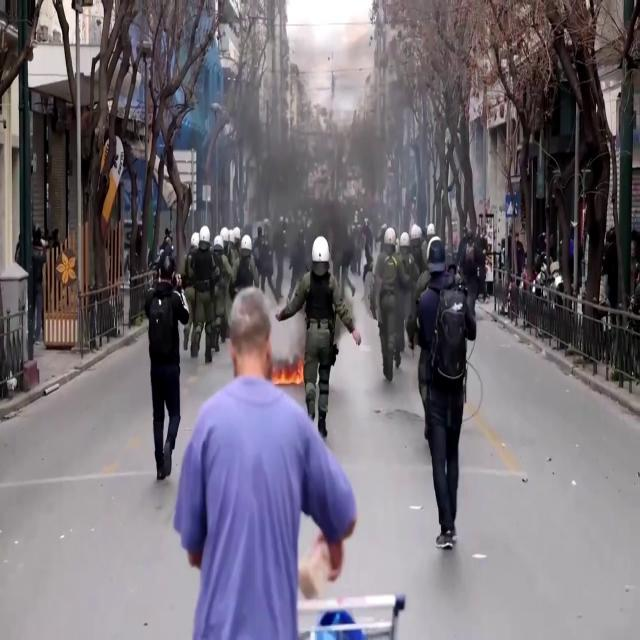Fire: (272, 348, 307, 391)
Smoke: (198, 28, 424, 266)
